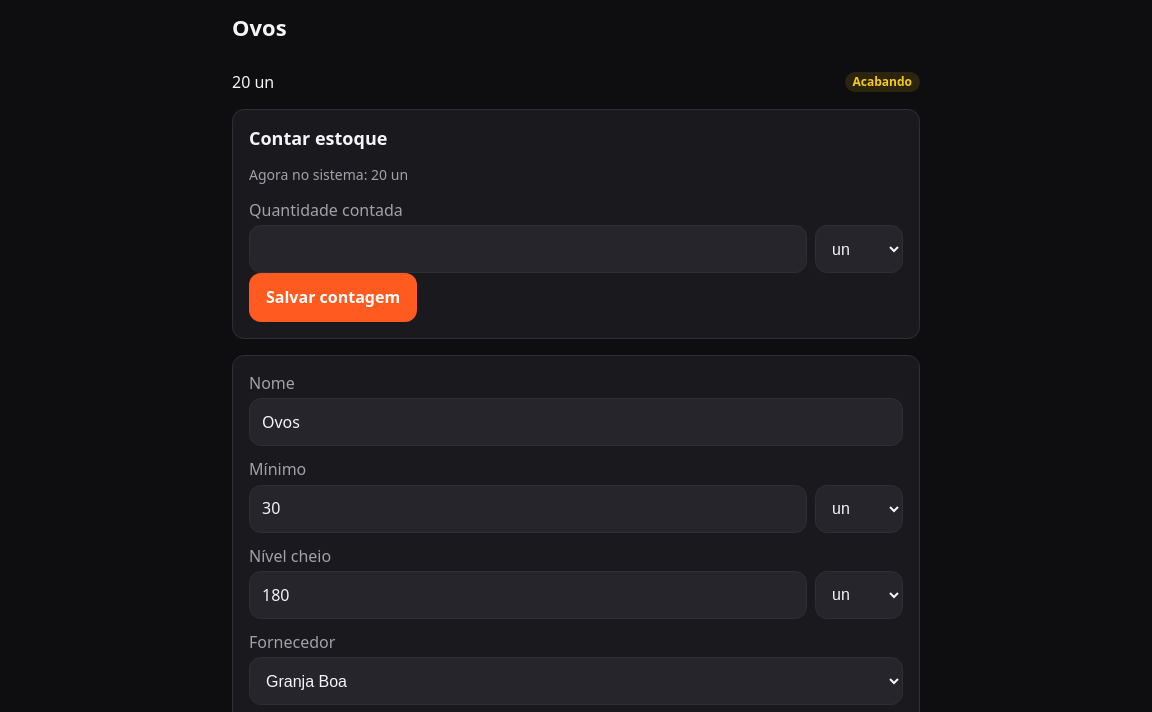
Item do estoque › diferença grande pede confirmação e cancelar não envia
Later steps or results of the test are not shown.
Type "100" into the field labelled "Quantidade contada" at (528, 249), box left=249, top=225, right=807, bottom=273
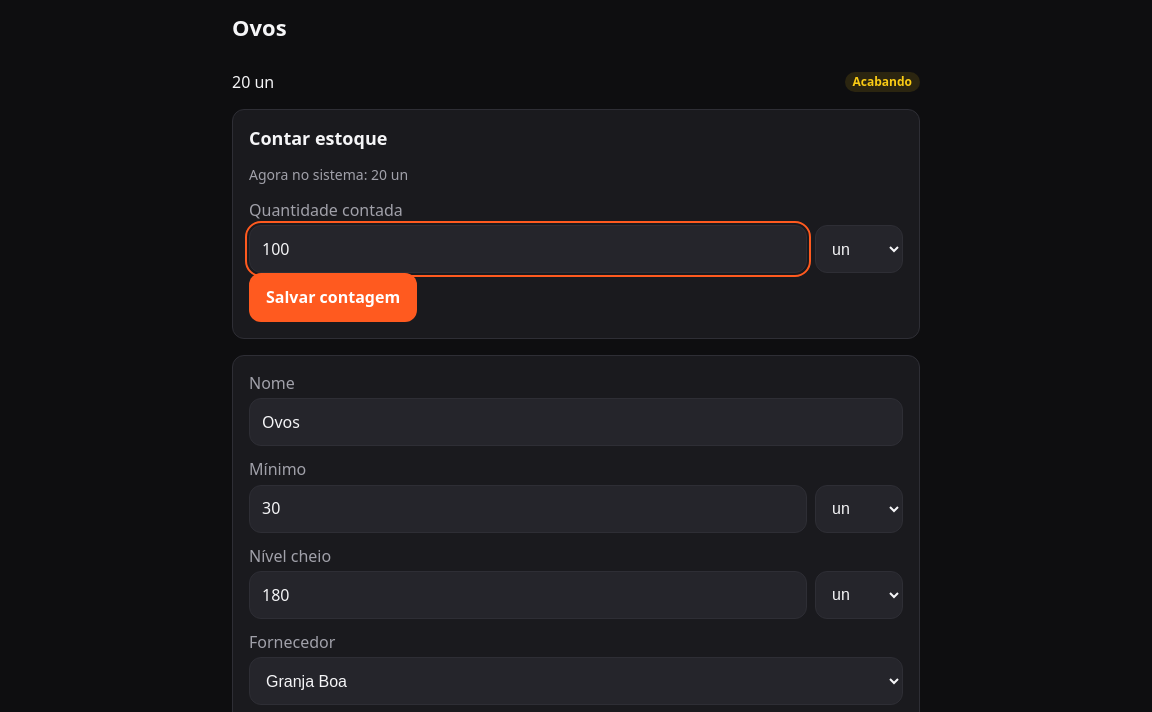
Click the button "Salvar contagem" at (333, 298), box left=249, top=273, right=417, bottom=322
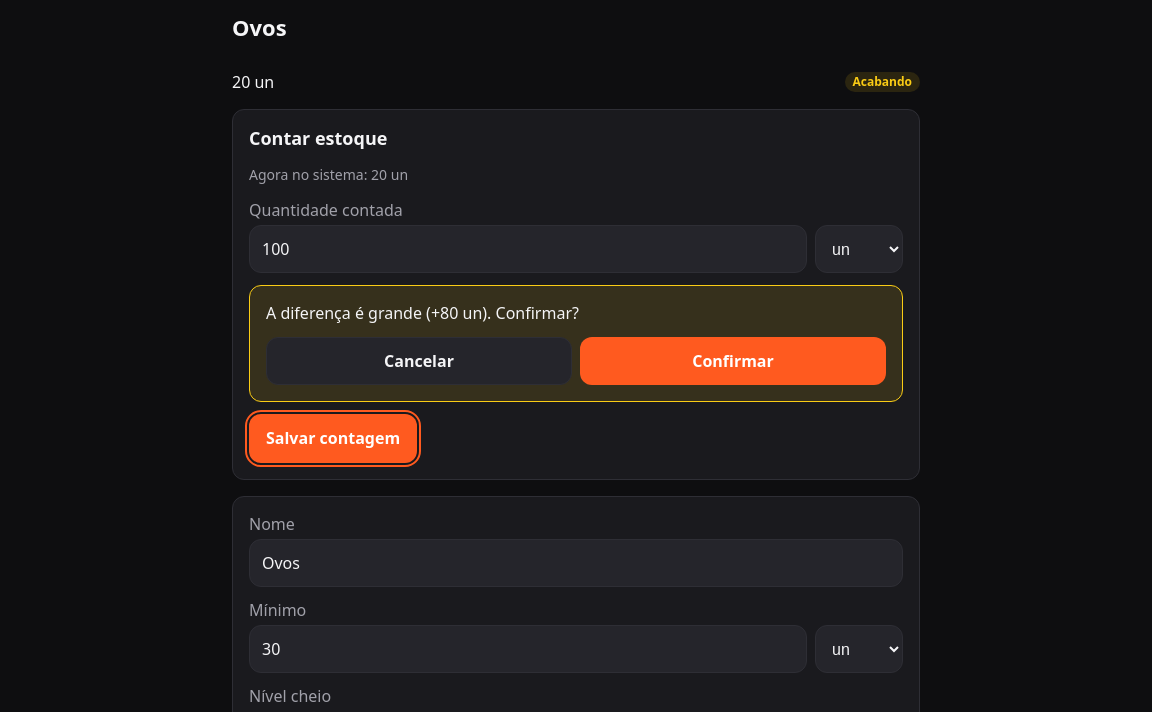
Check: the dialog shows "A diferença é grande (+80 un). Confirmar?", box left=266, top=302, right=579, bottom=324
